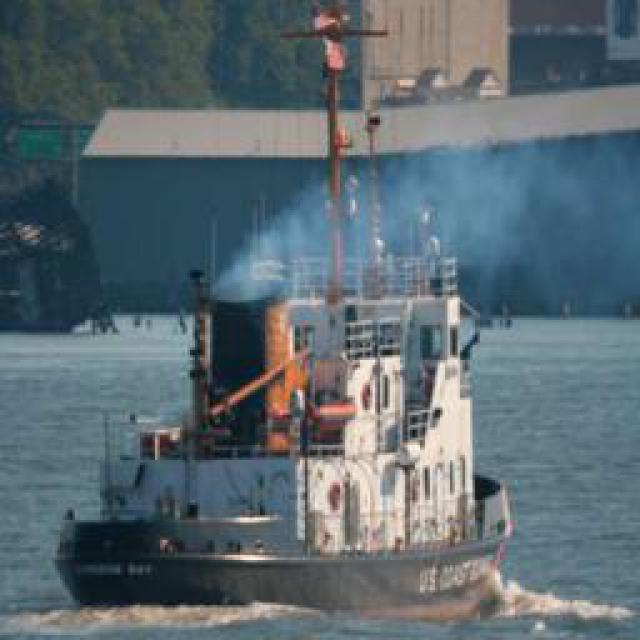Ship: (59, 123, 519, 611)
